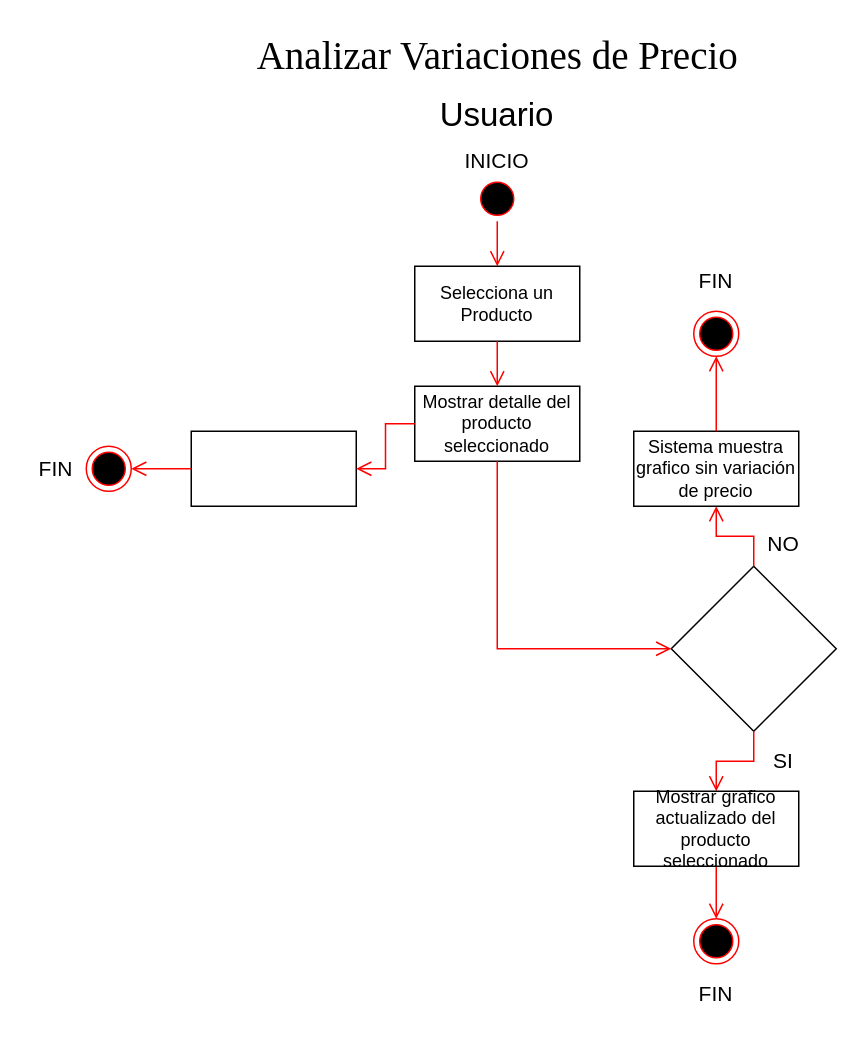
Some shapes in this 863 by 1049 pixel diagram are drawn without their labels. The box of each missing label's shape, as (x1, y1, x2, y2) in pixels:
Selecciona Cancelar: (190, 430, 356, 506)
¿Existe variación de precios?: (670, 565, 836, 731)
